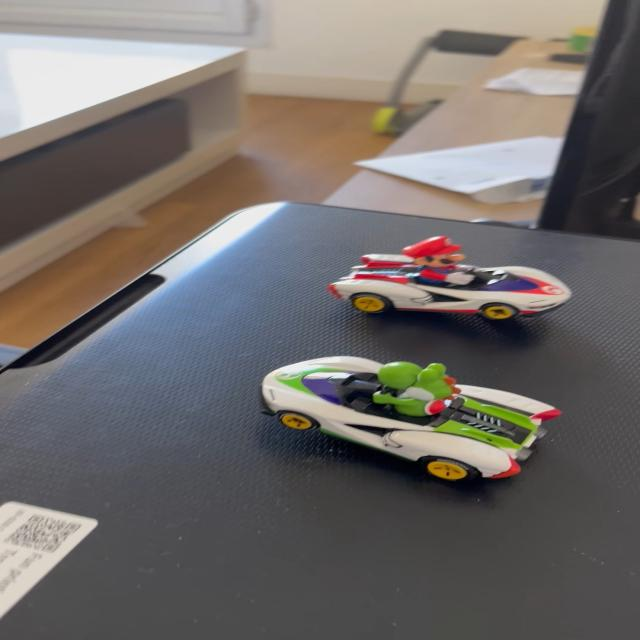mario: (323, 233, 585, 323)
yoshi: (246, 345, 584, 485)
